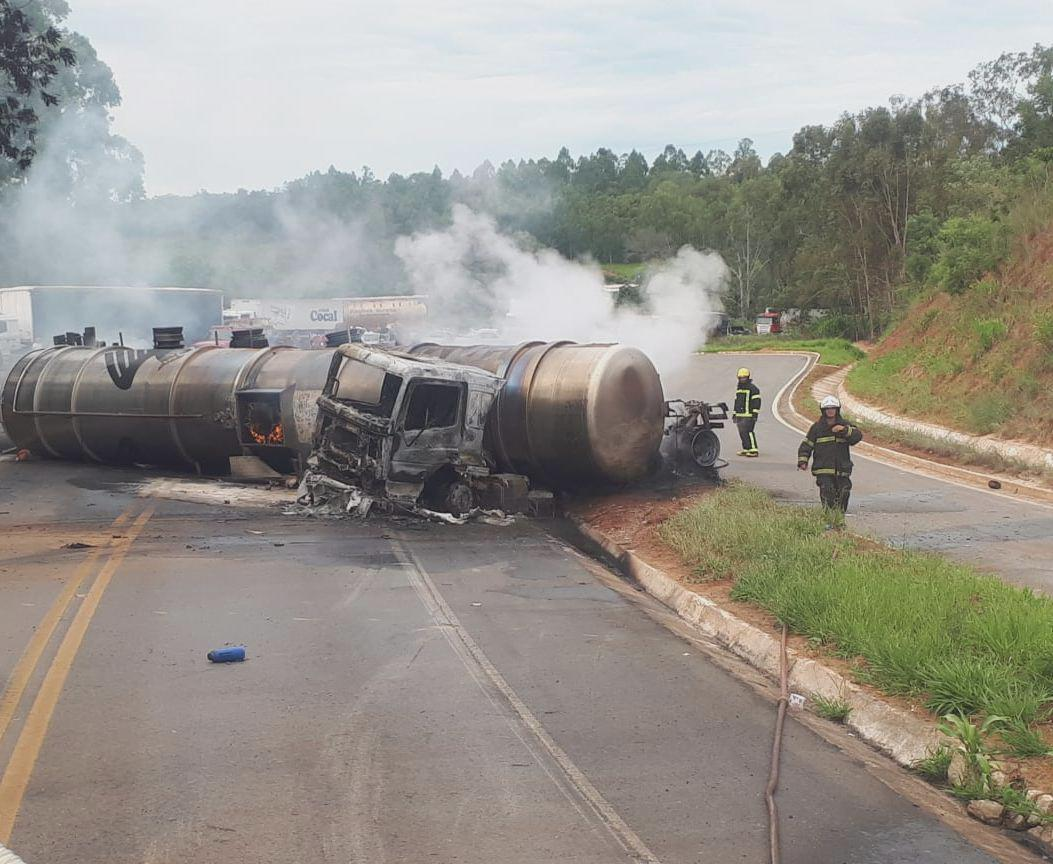Fire: (246, 426, 286, 443)
